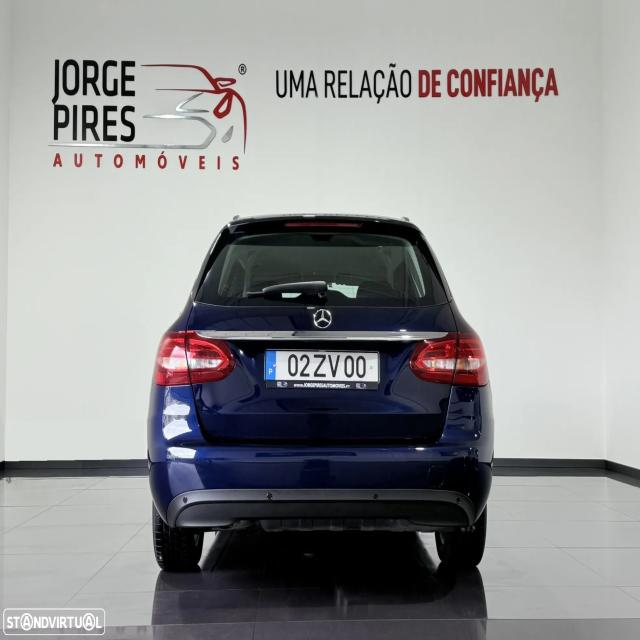portuguese-license-plates: (266, 350, 378, 382)
